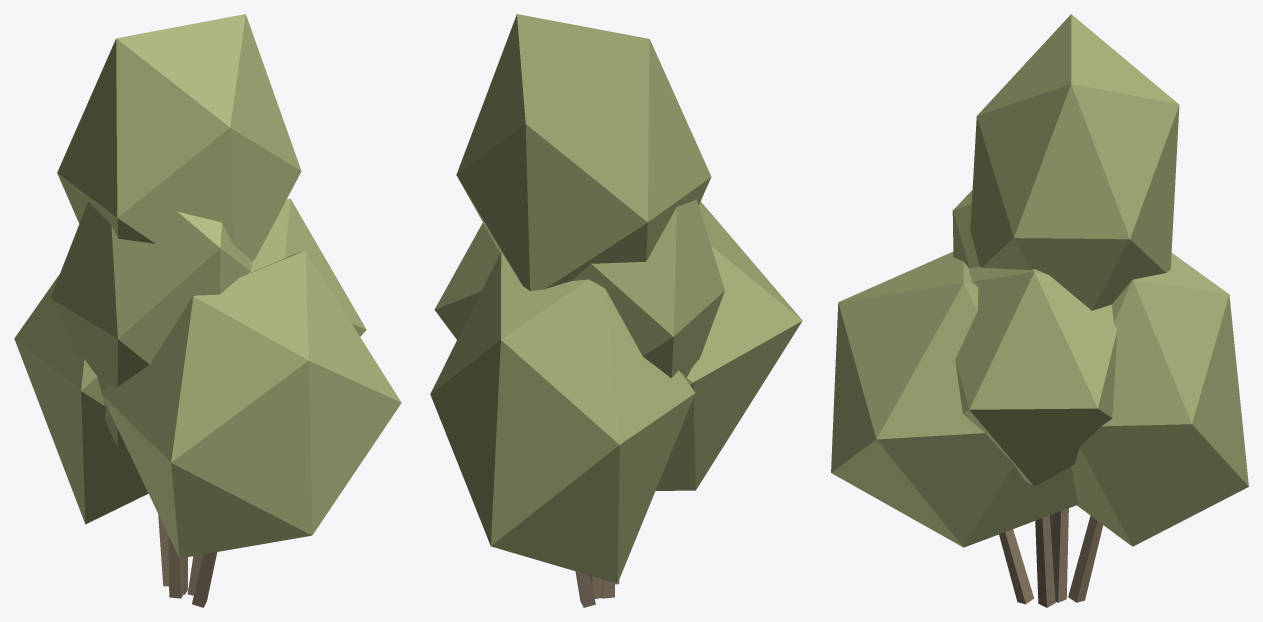
The model's file is tree_jarilla.glb.
The picture shows the model from 3 angles, left to right: view 1: azimuth 30°, elevation 25°; view 2: azimuth 150°, elevation 25°; view 3: azimuth 270°, elevation 25°; orthographic projection. The views are drawn at different scales.
Parts seen in each view (by area): view 1: body; view 2: body; view 3: body.
Part boxes in pixels (<box>): body: <box>14,14,401,607</box>; body: <box>430,14,802,607</box>; body: <box>831,14,1248,607</box>.
Size of the model in its own units: 0.8101 by 1.77 by 1.2.
